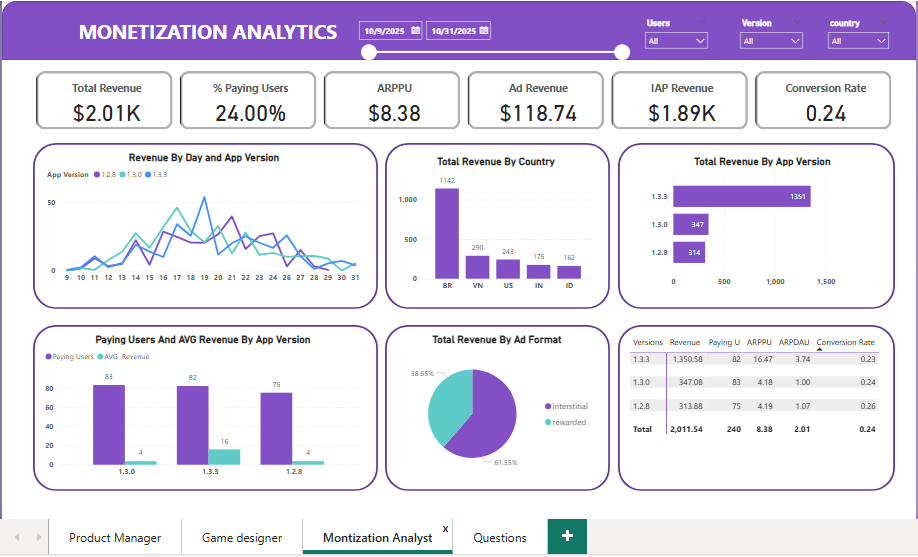

The page's visual inventory and layout, read from the dashboard file:
{"tool":"powerbi","page":{"name":"Montization Analyst","canvas":[1500,850],"ordinal":2},"visuals":[{"type":"shape","box":[0,0,1499.8,96.8],"z":0},{"type":"shape","box":[1010.8,233,454.5,272.4],"z":1000},{"type":"shape","box":[628.5,531.7,369.2,272.4],"z":2000},{"type":"shape","box":[1010.8,531.7,454.5,272.4],"z":3000},{"type":"shape","box":[50.9,531.7,566.1,272.4],"z":4000},{"type":"shape","box":[628.5,233,369.2,272.4],"z":5000},{"type":"shape","box":[50.9,233,566.1,272.4],"z":6000},{"type":"cardVisual","fields":{"Data":["_Measures.total revenue","_Measures.% paying users","_Measures.ARPPU","_Measures.ad revenue","_Measures.iap revenue","_Measures.conversion rate"]},"box":[50.9,109.9,1414.5,106.7],"z":7000},{"type":"clusteredBarChart","title":"Total Revenue By App Version","fields":{"Y":["_Measures.total revenue"],"Category":["Cleaned_data_gameapp.app_version"]},"box":[1058.4,252.7,379.1,226.4],"z":8000},{"type":"lineChart","title":"Revenue By Day and App Version","fields":{"Category":["Cleaned_data_gameapp.event_time_utc.Variation.Date Hierarchy.Day"],"Y":["_Measures.total revenue"],"Series":["Cleaned_data_gameapp.app_version"]},"box":[68.9,246.1,525.1,226.4],"z":9000},{"type":"clusteredColumnChart","title":"Paying Users And AVG Revenue By App Version","fields":{"Category":["Cleaned_data_gameapp.app_version"],"Y":["_Measures.paying users","_Measures.avg revenue b paying users"]},"box":[65.6,544.8,528.4,246.1],"z":10000},{"type":"clusteredColumnChart","title":"Total Revenue By Country","fields":{"Category":["Cleaned_data_gameapp.country"],"Y":["_Measures.total revenue"]},"box":[644.9,252.7,331.5,233],"z":11000},{"type":"pivotTable","fields":{"Rows":["Cleaned_data_gameapp.app_version"],"Values":["_Measures.total revenue","_Measures.paying users","_Measures.ARPPU","_Measures.ARPDAU","_Measures.conversion rate"]},"box":[1025.6,544.8,425,246.1],"z":12000},{"type":"pieChart","title":"Total Revenue By Ad Format","fields":{"Category":["Cleaned_data_gameapp.ad_format"],"Y":["_Measures.total revenue"]},"box":[648.2,544.8,328.2,246.1],"z":13000},{"type":"textbox","box":[68.3,23.3,536.7,86.7],"z":14000},{"type":"slicer","fields":{"Values":["Cleaned_data_gameapp.app_version"]},"box":[1201.4,22.6,123.3,74.7],"z":15000},{"type":"slicer","fields":{"Values":["Cleaned_data_gameapp.country"]},"box":[1345,23.3,120,73.3],"z":16000},{"type":"slicer","fields":{"Values":["Cleaned_data_gameapp.event_time_utc"]},"box":[572.9,22.6,465.3,86.8],"z":17000},{"type":"slicer","fields":{"Values":["Cleaned_data_gameapp.user_id"]},"box":[1045.1,22.6,123.3,72.9],"z":18000}]}

Visuals, with their boxes on the page's 1500x850 design canvas (x1, y1, x2, y2). These are canvas units, not pixel positions in the 918x557 screenshot, which may show the page scaled, cropped or inside an application window:
shape: (0, 0, 1500, 97)
shape: (1011, 233, 1465, 505)
shape: (628, 532, 998, 804)
shape: (1011, 532, 1465, 804)
shape: (51, 532, 617, 804)
shape: (628, 233, 998, 505)
shape: (51, 233, 617, 505)
cardVisual - _Measures.total revenue x _Measures.% paying users: (51, 110, 1465, 217)
"Total Revenue By App Version" clusteredBarChart: (1058, 253, 1438, 479)
"Revenue By Day and App Version" lineChart: (69, 246, 594, 472)
"Paying Users And AVG Revenue By App Version" clusteredColumnChart: (66, 545, 594, 791)
"Total Revenue By Country" clusteredColumnChart: (645, 253, 976, 486)
pivotTable - Cleaned_data_gameapp.app_version x _Measures.total revenue: (1026, 545, 1451, 791)
"Total Revenue By Ad Format" pieChart: (648, 545, 976, 791)
textbox: (68, 23, 605, 110)
slicer - Cleaned_data_gameapp.app_version: (1201, 23, 1325, 97)
slicer - Cleaned_data_gameapp.country: (1345, 23, 1465, 97)
slicer - Cleaned_data_gameapp.event_time_utc: (573, 23, 1038, 109)
slicer - Cleaned_data_gameapp.user_id: (1045, 23, 1168, 96)
